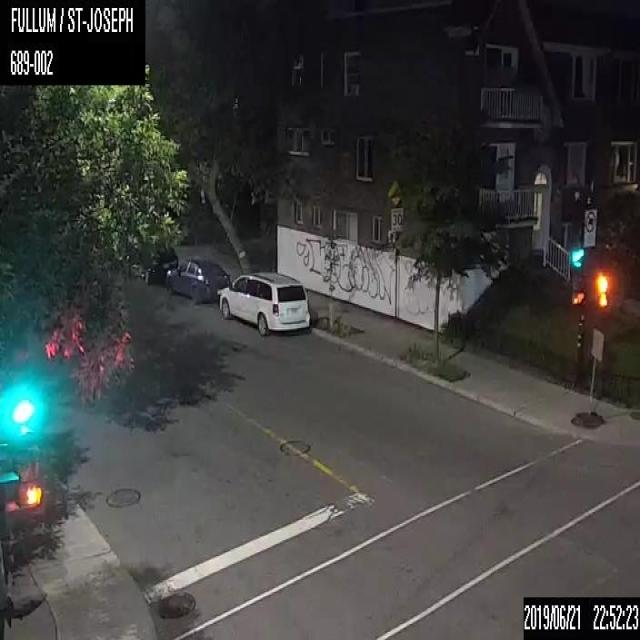construction: (569, 326, 602, 428)
vehicle: (218, 270, 312, 338), (165, 255, 229, 304), (127, 242, 178, 284)
